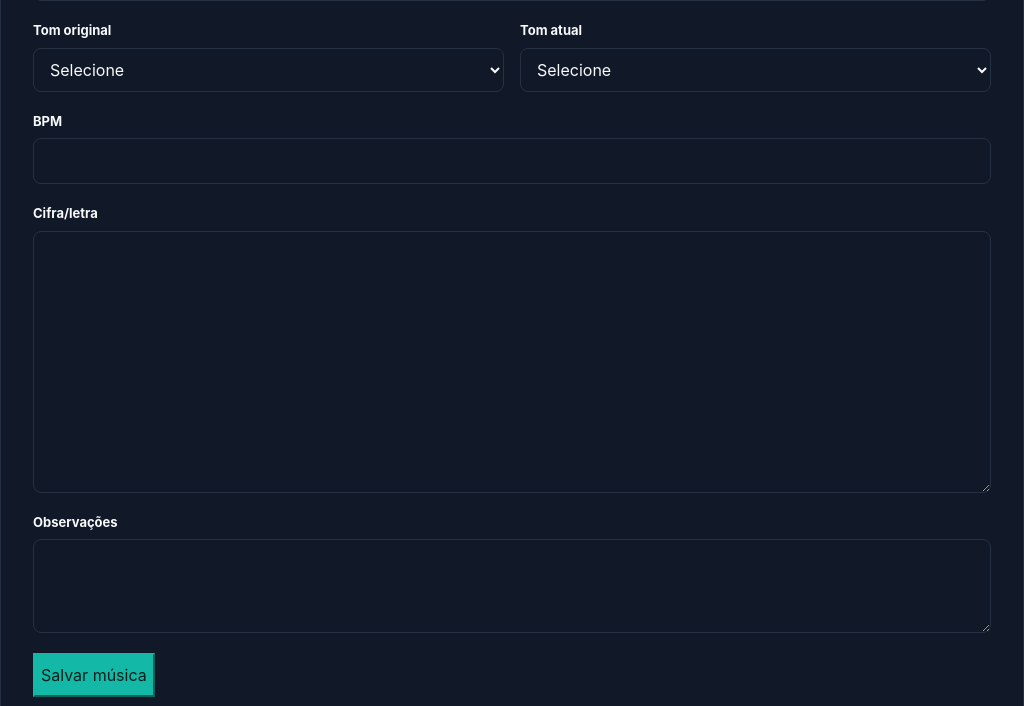
SongForm › shows validation errors and does not create a song when required fields are missing
(page scrolled)
Click the button "Salvar música": (94, 675) [33,653,155,697]
(page scrolled)
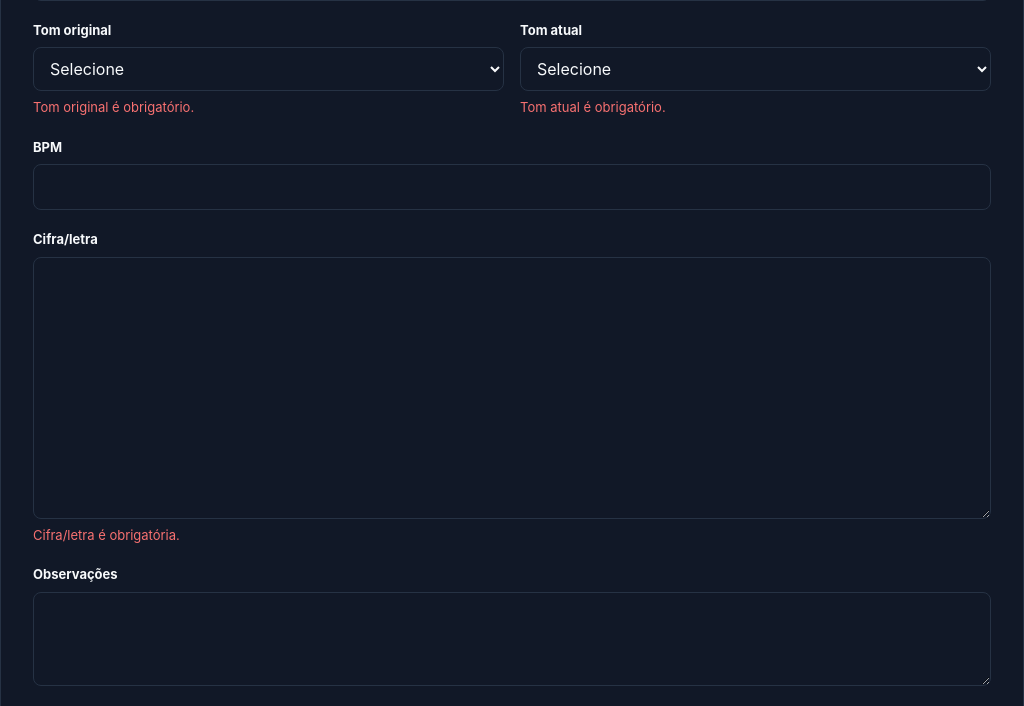
expect the text "Tom original é obrigatório." is shown: met, box [33,99,194,115]
expect the text "Tom atual é obrigatório." is shown: met, box [520,99,666,115]
expect the text "Cifra/letra é obrigatória." is shown: met, box [33,526,180,542]
